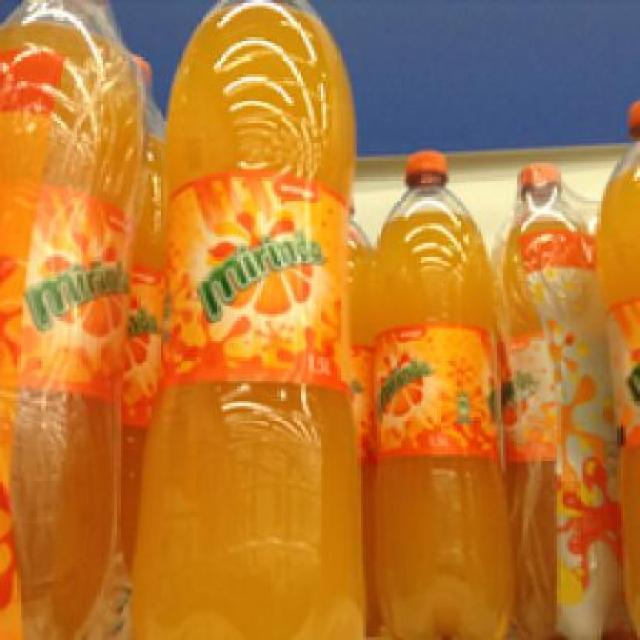Soda: (134, 0, 360, 637), (0, 0, 138, 635), (363, 148, 508, 638), (497, 160, 614, 637)
